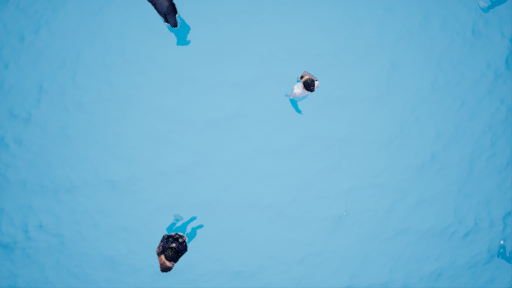person: (148, 215, 205, 272), (280, 73, 328, 119)
